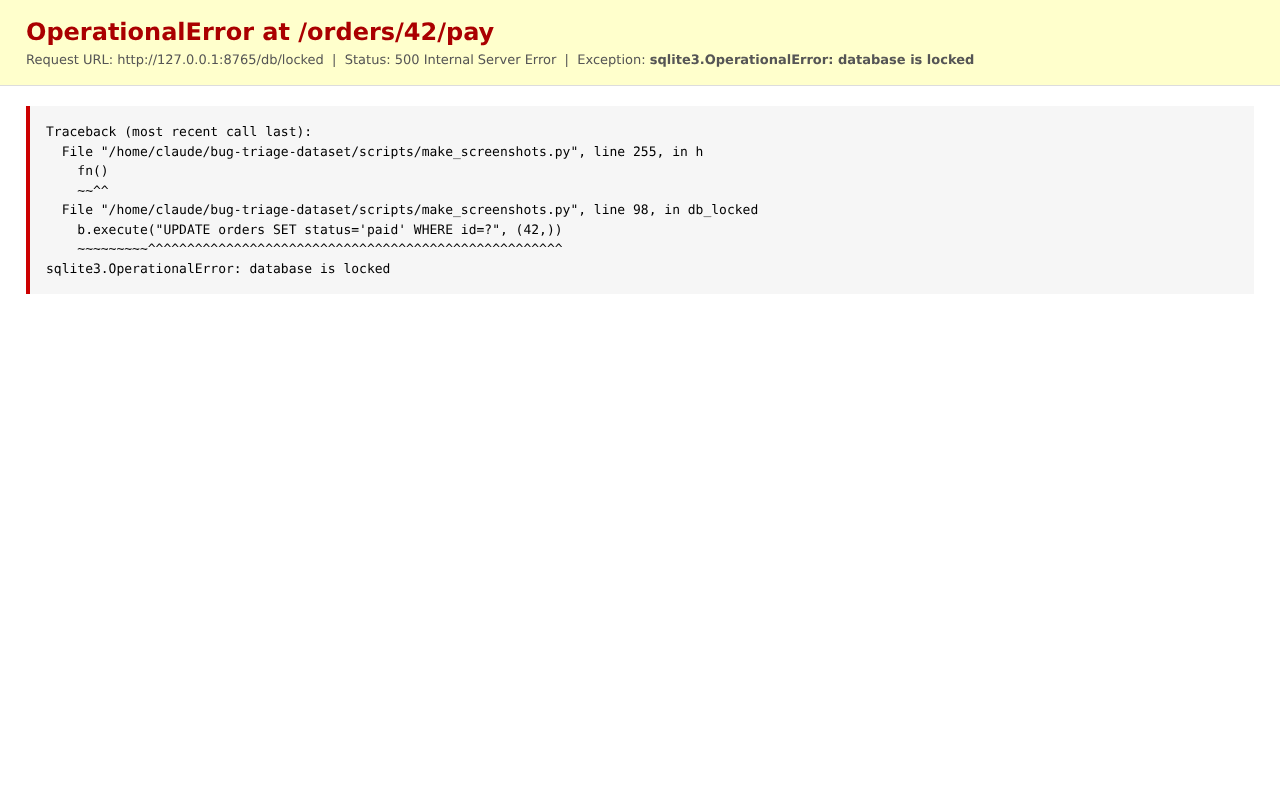ERROR_TEXT: (27, 21, 494, 46), (578, 54, 974, 67), (47, 263, 389, 276)
STACK_TRACE: (26, 106, 1254, 294)
STATUS_INDICATOR: (345, 54, 557, 65)
